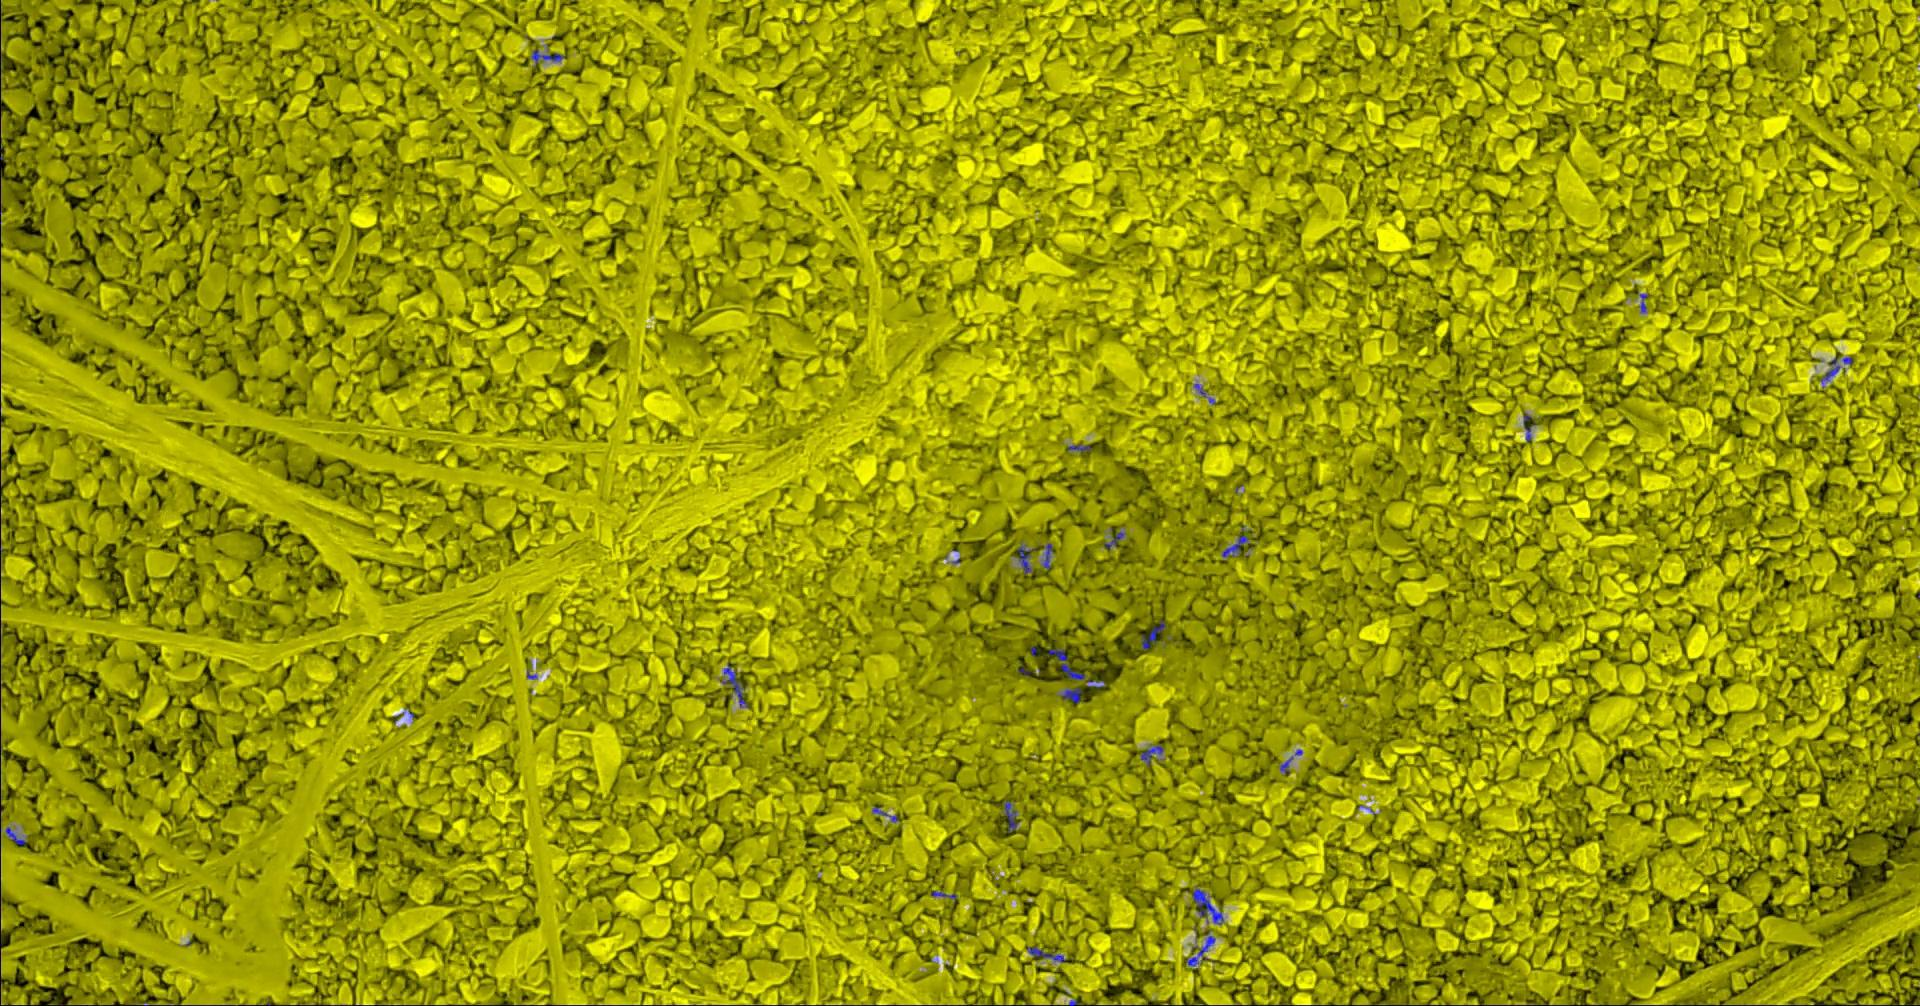ant: (1049, 648, 1087, 680), (1192, 888, 1225, 923), (723, 666, 749, 708), (1189, 930, 1217, 965), (1223, 525, 1252, 556), (1142, 620, 1167, 649), (1821, 357, 1841, 387), (1029, 946, 1067, 962), (1018, 545, 1037, 573), (1004, 800, 1020, 832), (532, 50, 566, 64), (1142, 746, 1164, 765), (874, 807, 900, 822), (8, 826, 27, 845), (1105, 531, 1125, 549), (1525, 412, 1537, 441), (1063, 687, 1083, 702), (1044, 542, 1055, 569), (932, 890, 959, 899), (1069, 443, 1092, 451), (1088, 680, 1106, 687)
